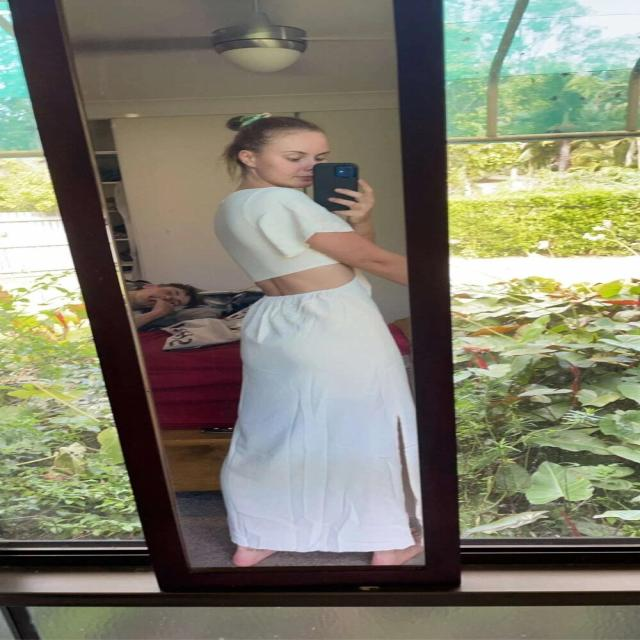clothes: (167, 184, 456, 578)
